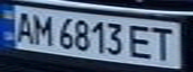1: (87, 19, 109, 54)
3: (106, 20, 127, 56)
6: (54, 15, 75, 51)
8: (72, 17, 90, 53)
A: (9, 8, 36, 44)
E: (124, 21, 157, 61)
M: (30, 11, 57, 47)
T: (148, 25, 181, 62)
